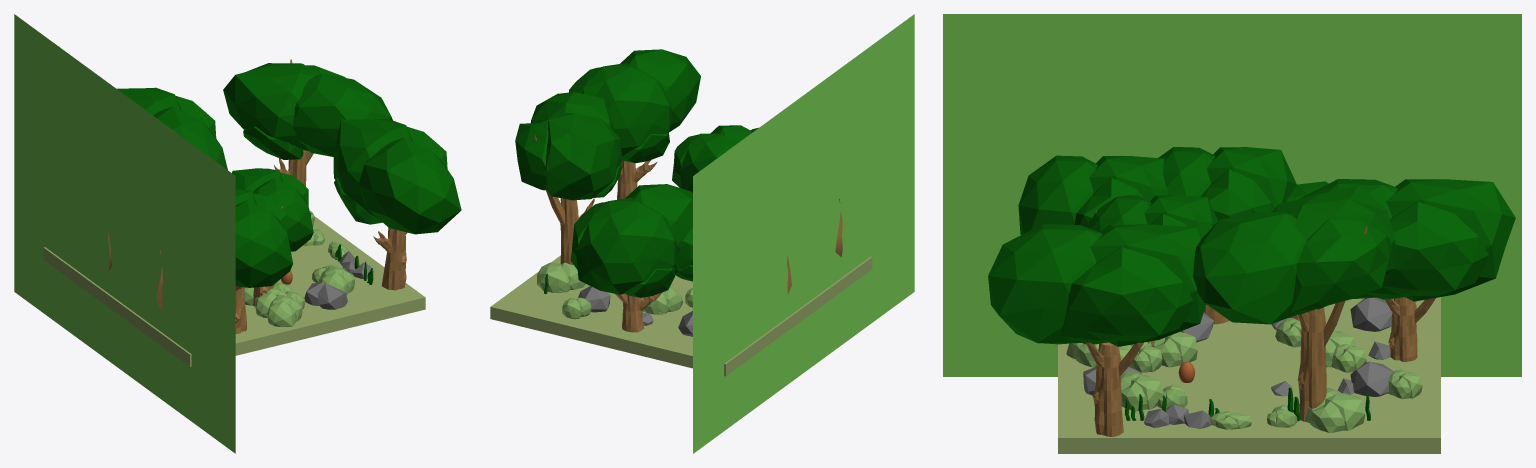
Rendered from TestScene.fbx.
3 views of the same model, side by side, from view 1: azimuth 30°, elevation 25°; view 2: azimuth 150°, elevation 25°; view 3: azimuth 270°, elevation 25° (orthographic). The views are drawn at different scales.
Visible parts, largest first — view 1: pPlane1, Boom, pCube2, pCube3, Boomstammen, Struiken, pCube1, Stenen; view 2: pPlane1, Boom, pCube3, Boomstammen, pCube2, pCube1, Struiken, Stenen; view 3: pPlane1, Boom, pCube2, pCube1, Struiken, Boomstammen, Stenen, pCube3, Sprieten, Icosphere13, Icosphere14.
Part boxes in pixels (x1,y1,x2,y2): pPlane1: [14, 14, 235, 453]; Boom: [117, 63, 461, 287]; pCube2: [291, 216, 425, 326]; pCube3: [43, 247, 299, 366]; Boomstammen: [108, 59, 406, 333]; Struiken: [244, 211, 354, 326]; pCube1: [247, 268, 356, 343]; Stenen: [304, 251, 374, 309]; pPlane1: [693, 14, 914, 453]; Boom: [515, 49, 758, 297]; pCube3: [616, 256, 872, 376]; Boomstammen: [534, 135, 842, 332]; pCube2: [490, 255, 589, 335]; pCube1: [559, 275, 692, 353]; Struiken: [537, 262, 682, 319]; Stenen: [578, 286, 692, 336]; pPlane1: [943, 14, 1521, 376]; Boom: [988, 147, 1515, 346]; pCube2: [1058, 394, 1440, 453]; pCube1: [1058, 347, 1440, 394]; Struiken: [1066, 317, 1422, 432]; Boomstammen: [1086, 210, 1435, 436]; Stenen: [1083, 297, 1393, 428]; pCube3: [1058, 297, 1440, 347]; Sprieten: [1125, 387, 1370, 421]; Icosphere13: [1275, 318, 1301, 347]; Icosphere14: [1210, 411, 1251, 429].
Bounding box in the file's own units: 13.46 × 13.05 × 18.86.
